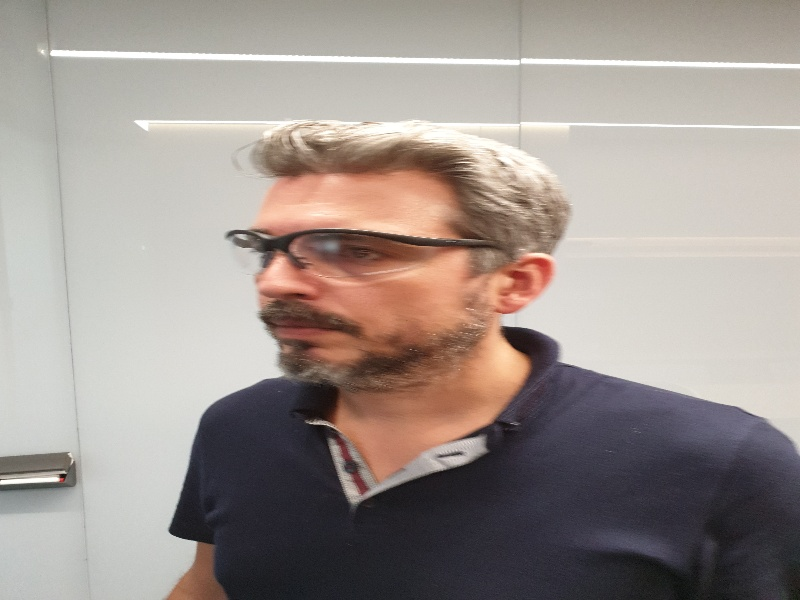Gozluk: (227, 230, 513, 280)
